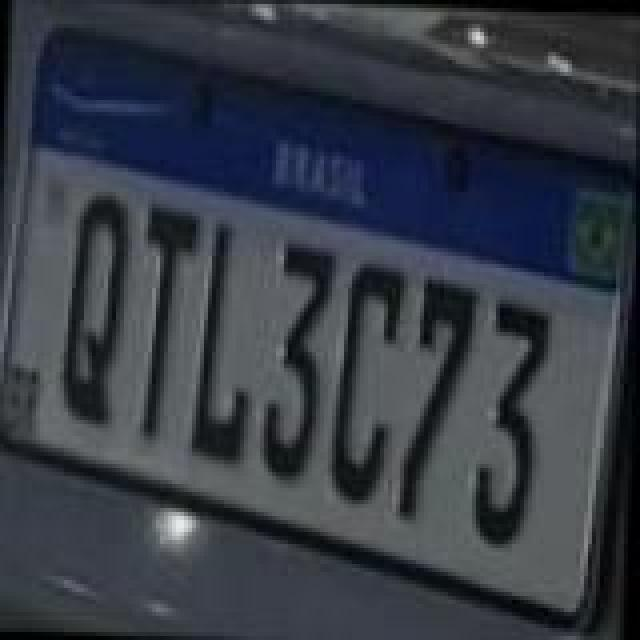3: (472, 298, 556, 550), (260, 238, 340, 486)
7: (396, 270, 480, 522)
C: (328, 256, 408, 500)
L: (184, 222, 256, 466)
Q: (56, 188, 128, 428)
T: (136, 202, 200, 446)
